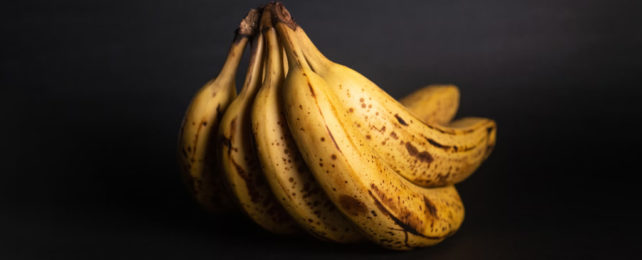banana: (175, 1, 500, 255)
